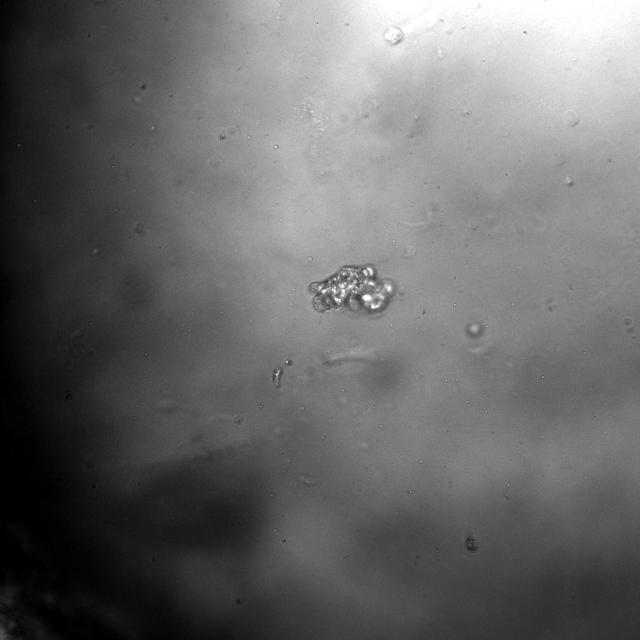organoid: (309, 264, 394, 314), (384, 26, 404, 44)
